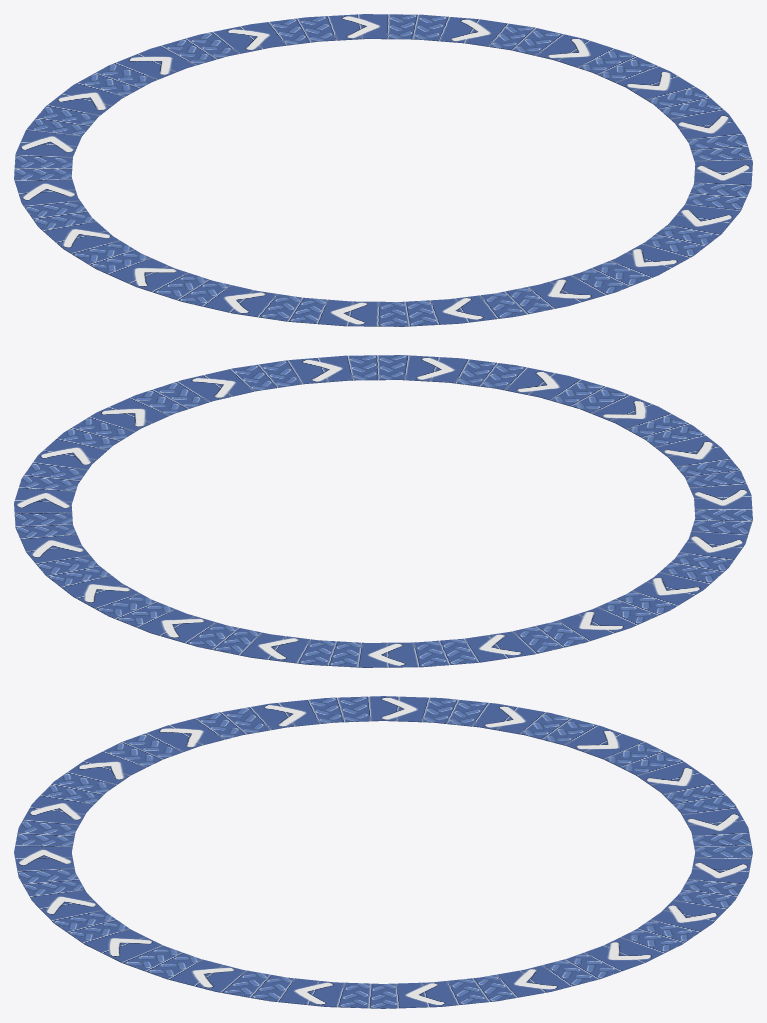
File: Moving.Road.004.fbx
3 views of the same model, one above another, from view 1: azimuth 30°, elevation 25°; view 2: azimuth 150°, elevation 25°; view 3: azimuth 270°, elevation 25° (orthographic).
Parts seen in each view (by area): view 1: Moving.Road.004; view 2: Moving.Road.004; view 3: Moving.Road.004.
Part boxes in pixels (bbox=[...]): Moving.Road.004: bbox=[14, 14, 752, 326]; Moving.Road.004: bbox=[14, 355, 752, 667]; Moving.Road.004: bbox=[14, 696, 752, 1008].
Bounding box in the file's own units: 25 × 0.0204 × 25.
